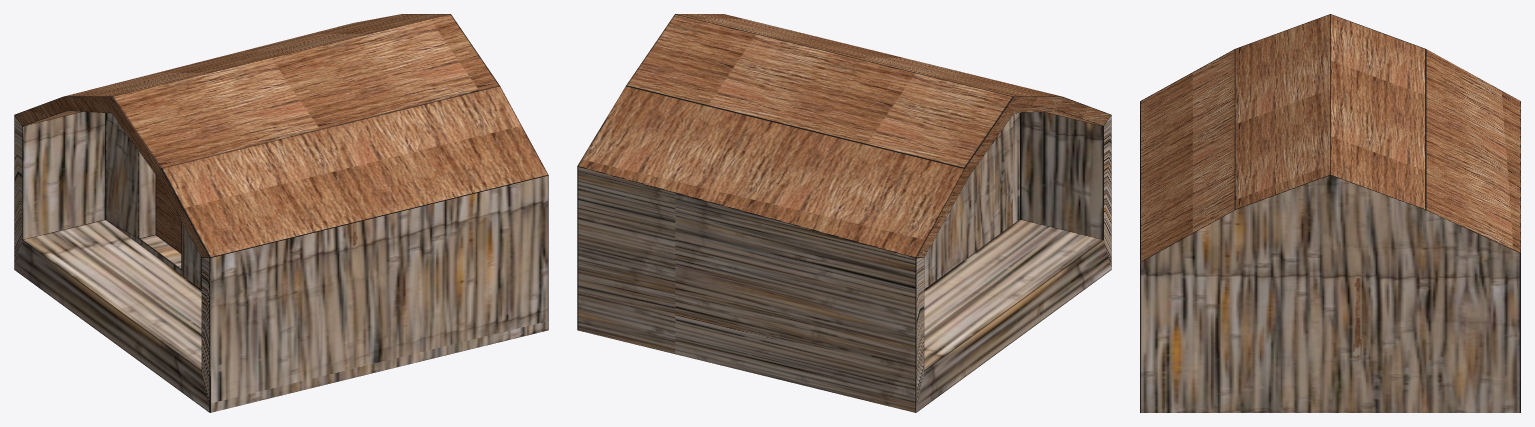
The model's file is Maori_House.dae.
The picture shows the model from 3 angles, left to right: view 1: azimuth 30°, elevation 25°; view 2: azimuth 150°, elevation 25°; view 3: azimuth 270°, elevation 25°; orthographic projection. The views are drawn at different scales.
Visible parts, largest first — view 1: Cube; view 2: Cube; view 3: Cube.
Boxes of the visible parts, x1,y1,x2,y2 form: Cube: (14,14,548,412); Cube: (577,14,1111,412); Cube: (1140,14,1520,412).
Size of the model in its own units: 7.1 by 7.1 by 4.9.
Materials: 1 (1 with a texture image).
